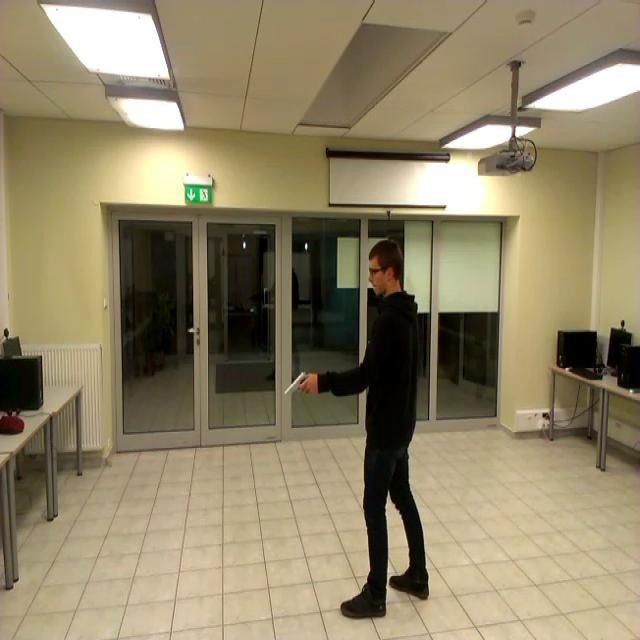weapon: (280, 373, 312, 400)
